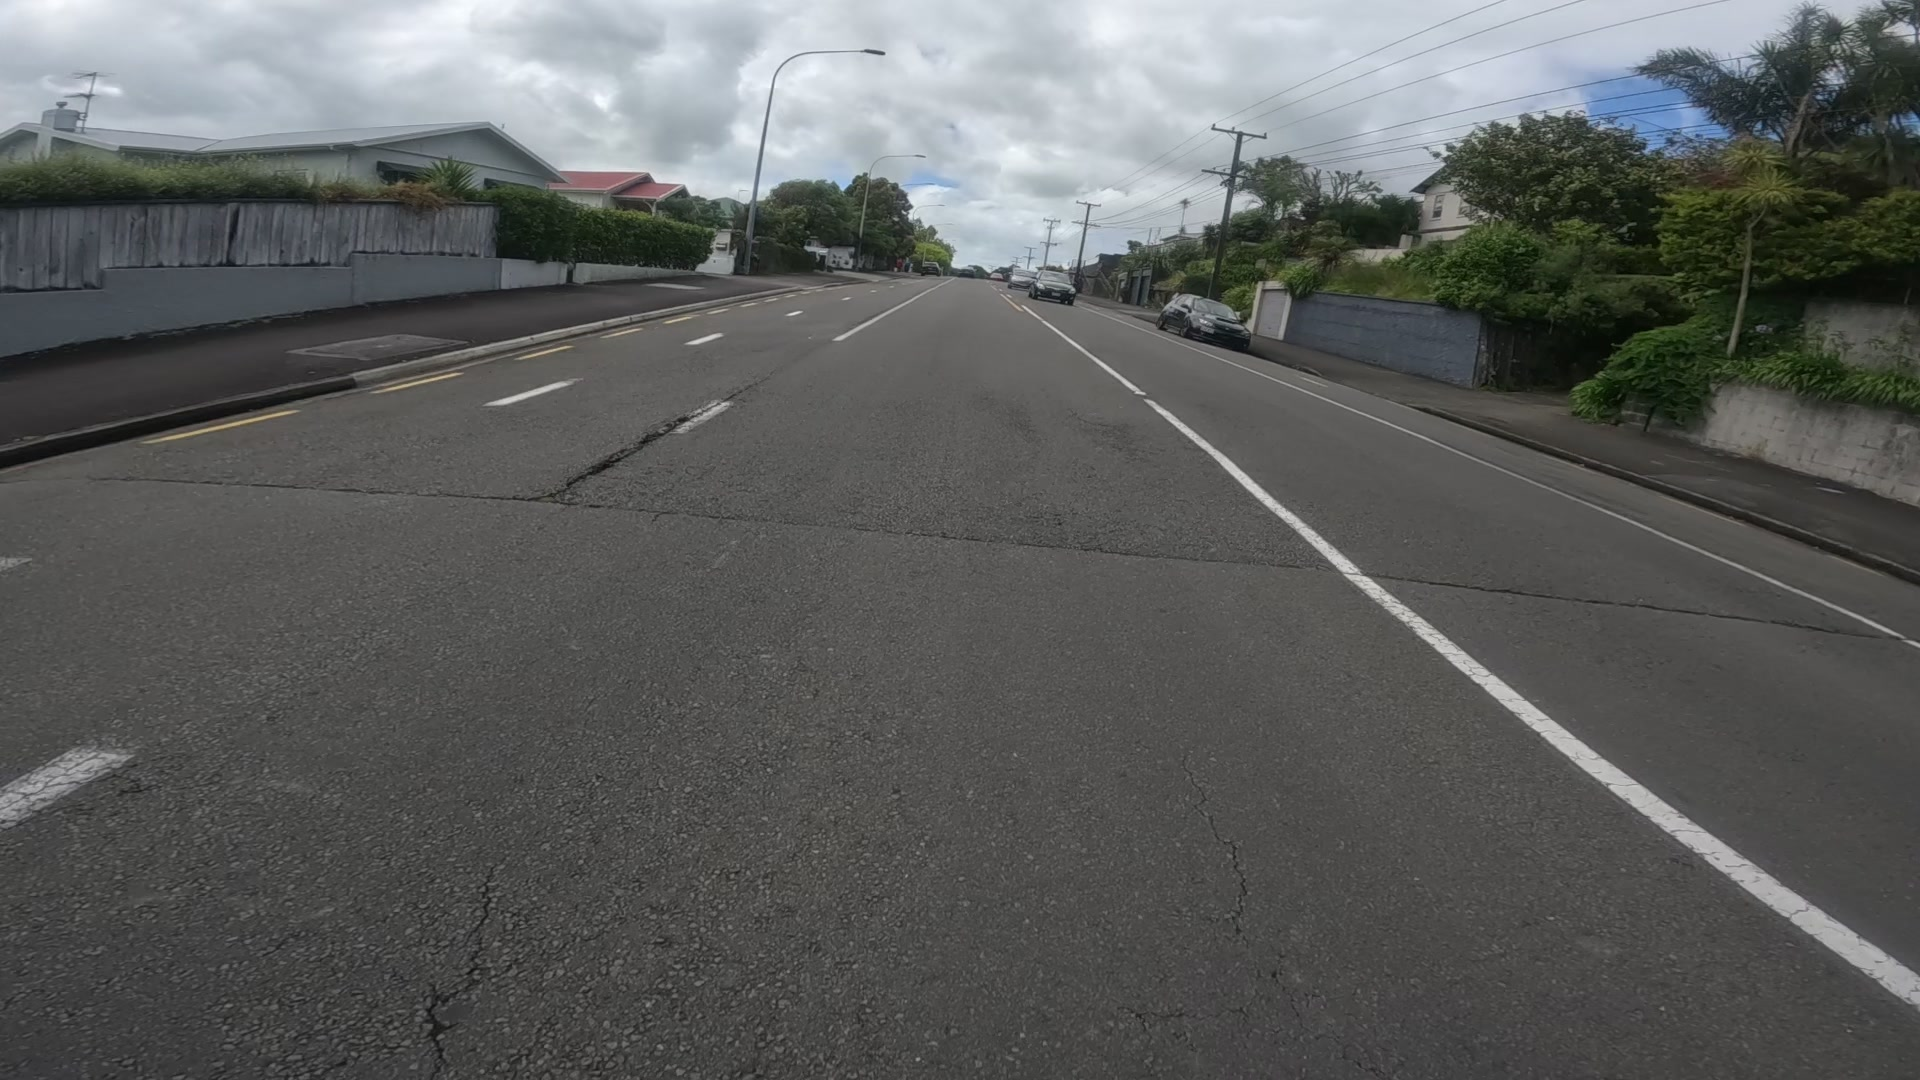Longitudinal_Cracking: (562, 365, 764, 501)
